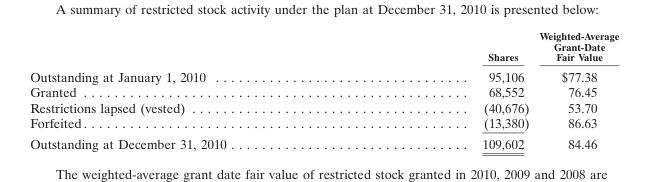table: (29, 29, 618, 151)
table column: (29, 29, 353, 151), (353, 29, 533, 151), (533, 29, 618, 151)
table column header: (29, 29, 618, 65)
table row: (29, 29, 618, 65), (29, 132, 618, 151), (29, 65, 618, 83), (29, 114, 618, 132), (29, 83, 618, 99), (29, 99, 618, 114)
